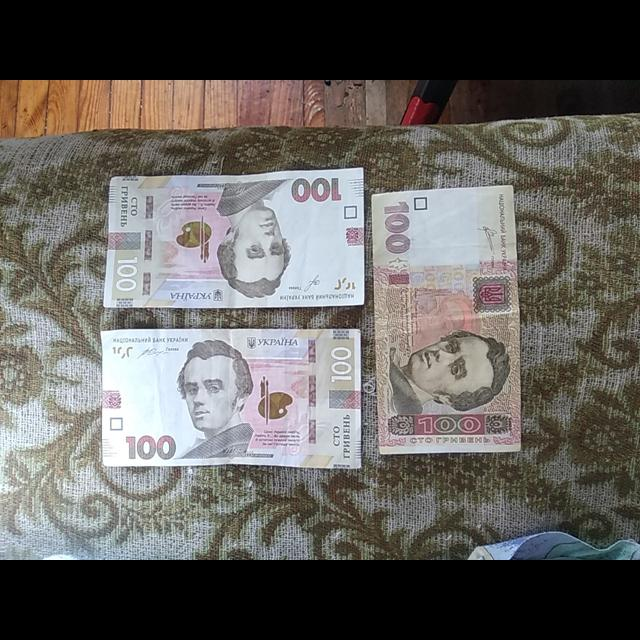100uah: (372, 185, 521, 457), (100, 330, 362, 469), (102, 169, 363, 307)
